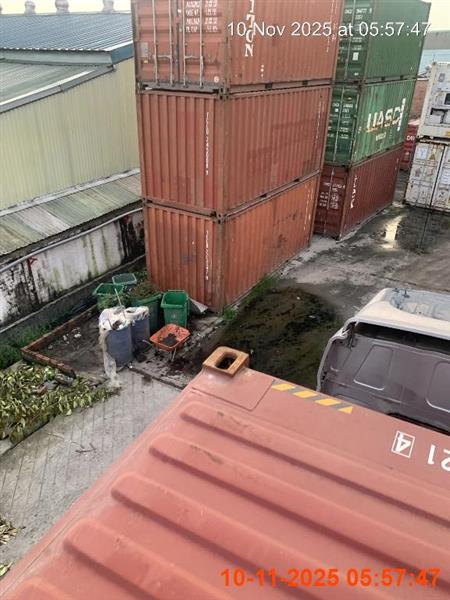crack: (0, 344, 449, 599), (314, 285, 449, 433)
